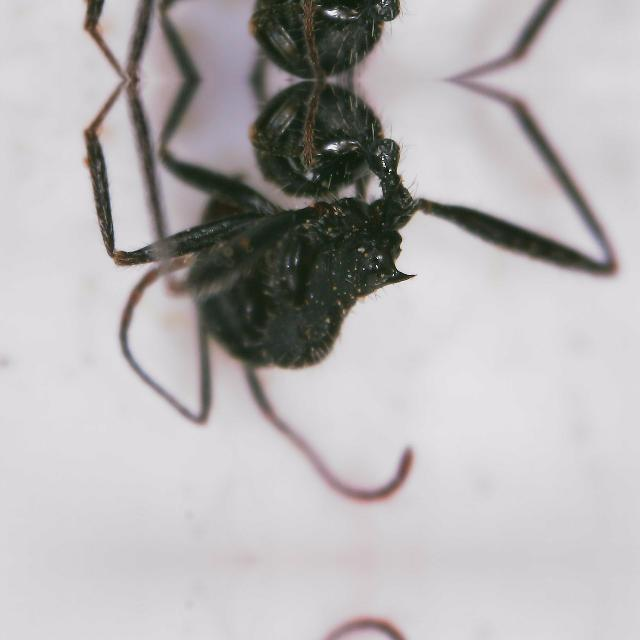Apheanogaster: (56, 83, 632, 451), (55, 0, 630, 76)
